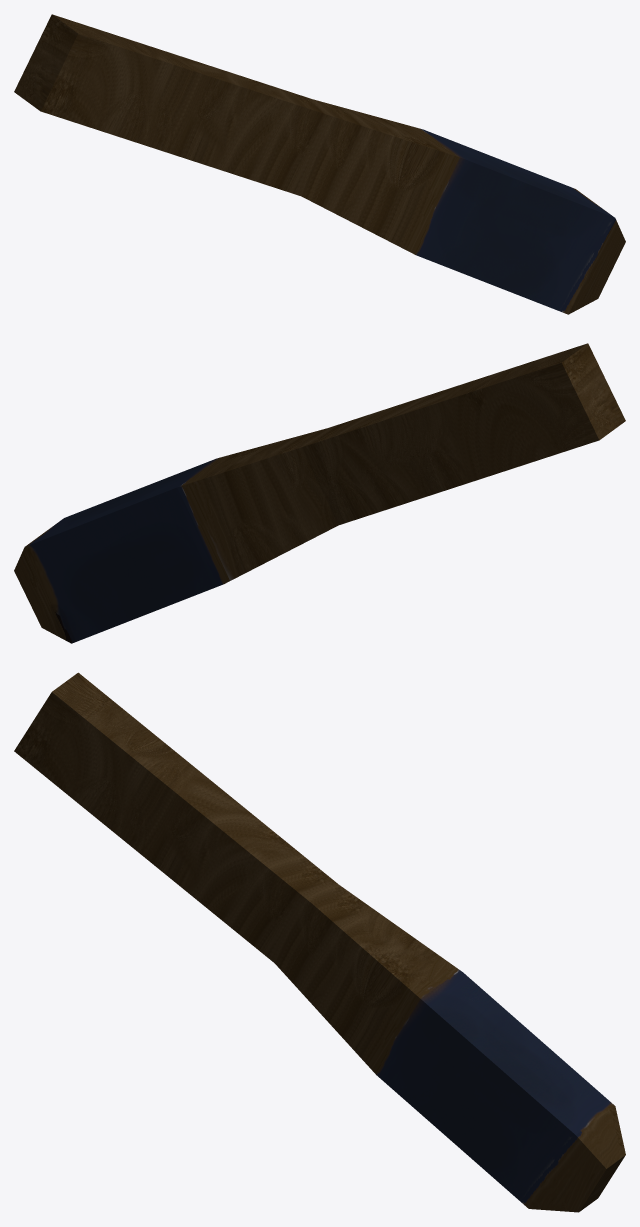
Rendered from Levier.fbx.
3 renders of one model, top to bottom at view 1: azimuth 30°, elevation 25°; view 2: azimuth 150°, elevation 25°; view 3: azimuth 330°, elevation 25°, orthographic.
Parts seen in each view (by area): view 1: polySurface3; view 2: polySurface3; view 3: polySurface3.
Boxes of the visible parts, x1=… form: polySurface3: x1=14, y1=14, x2=625, y2=314; polySurface3: x1=14, y1=343, x2=625, y2=643; polySurface3: x1=14, y1=672, x2=625, y2=1212.
Bounding box in the file's own units: 0.4782 × 0.3068 × 0.0557.
